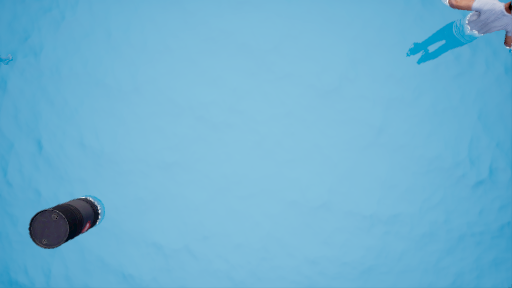person: (412, 1, 505, 65)
